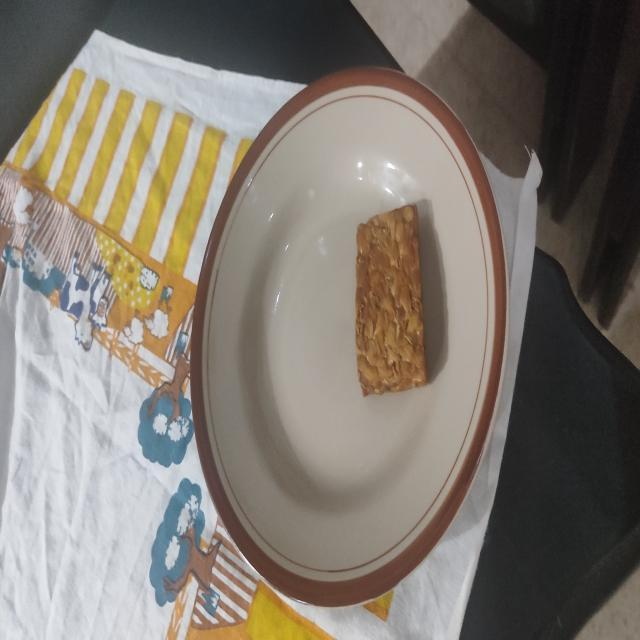tempe_goreng: (356, 206, 426, 395)
